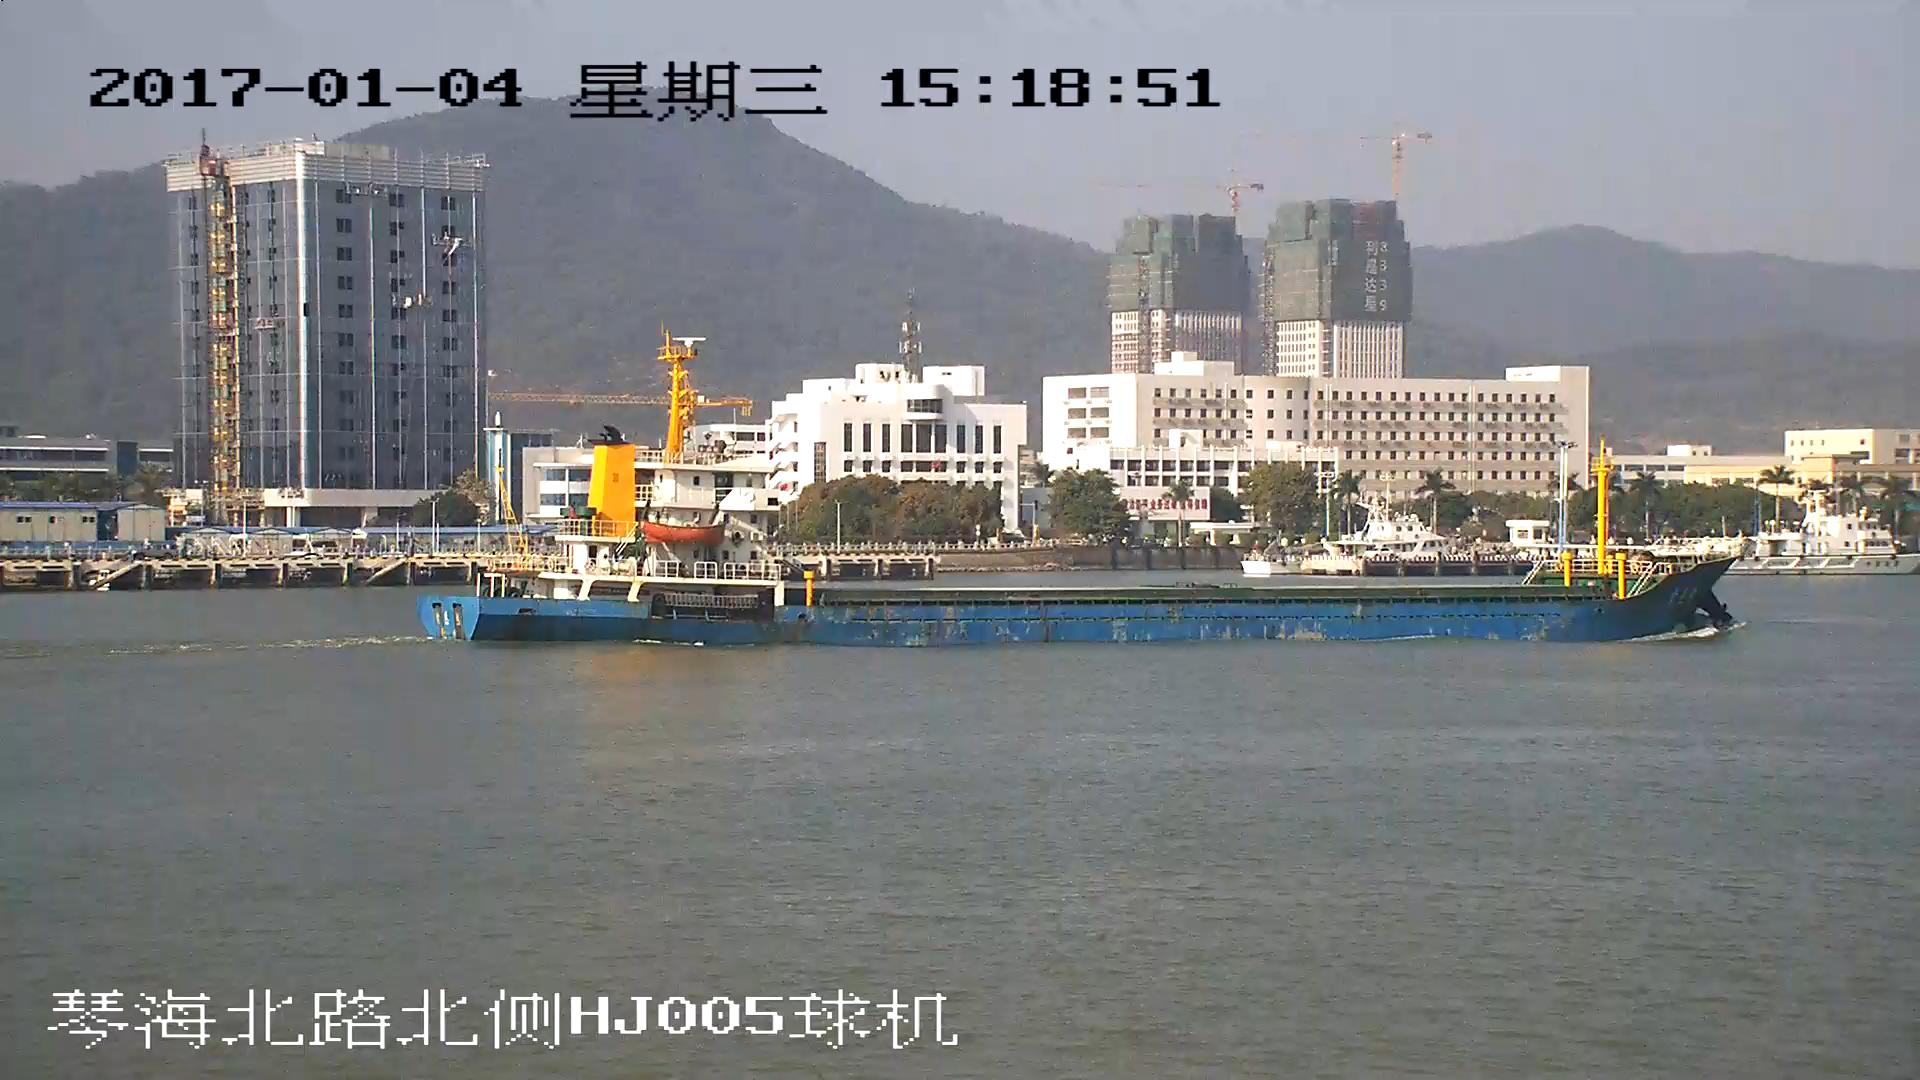general cargo ship: (425, 338, 1740, 645)
